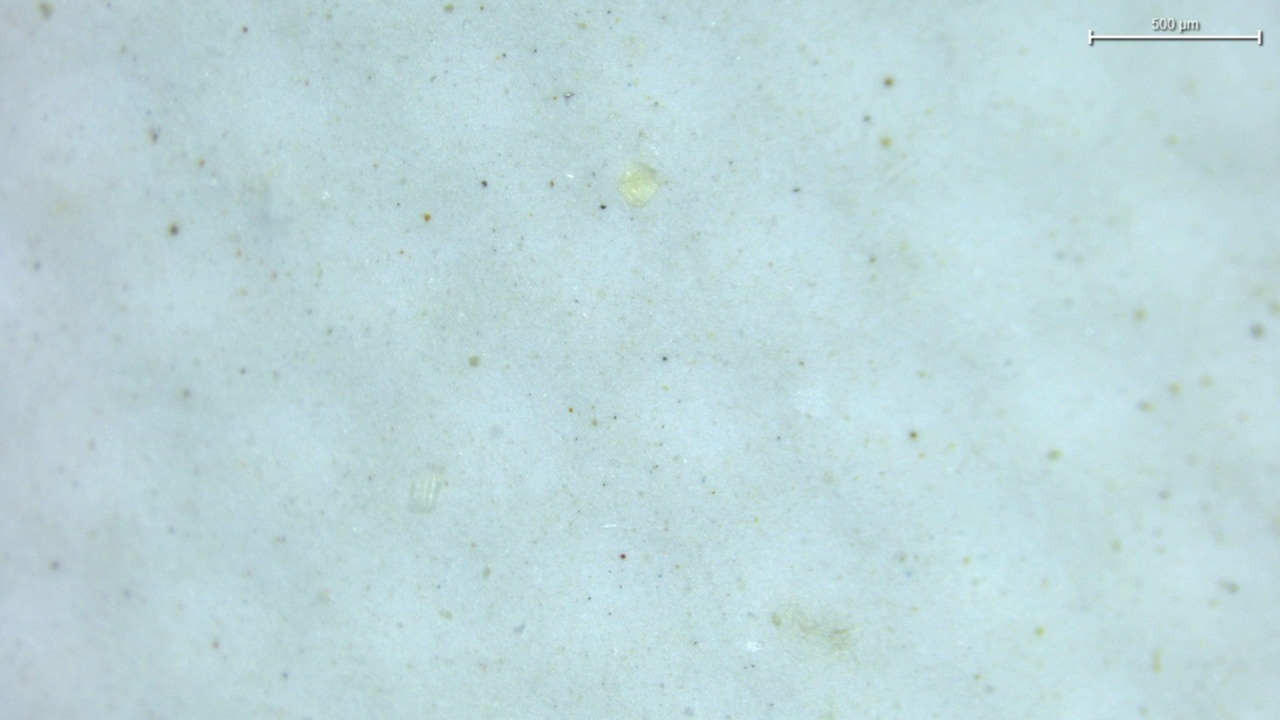microplastic_fragment: (619, 162, 659, 206), (410, 473, 442, 512)
